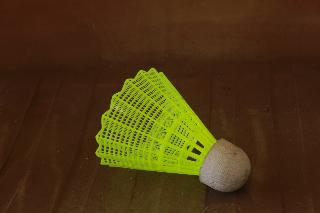shuttlecock: (96, 67, 250, 190)
